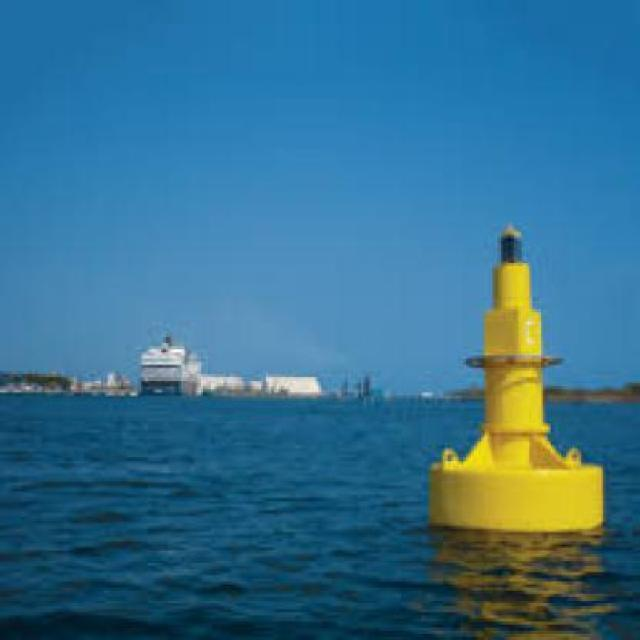buoy: (407, 211, 615, 545)
